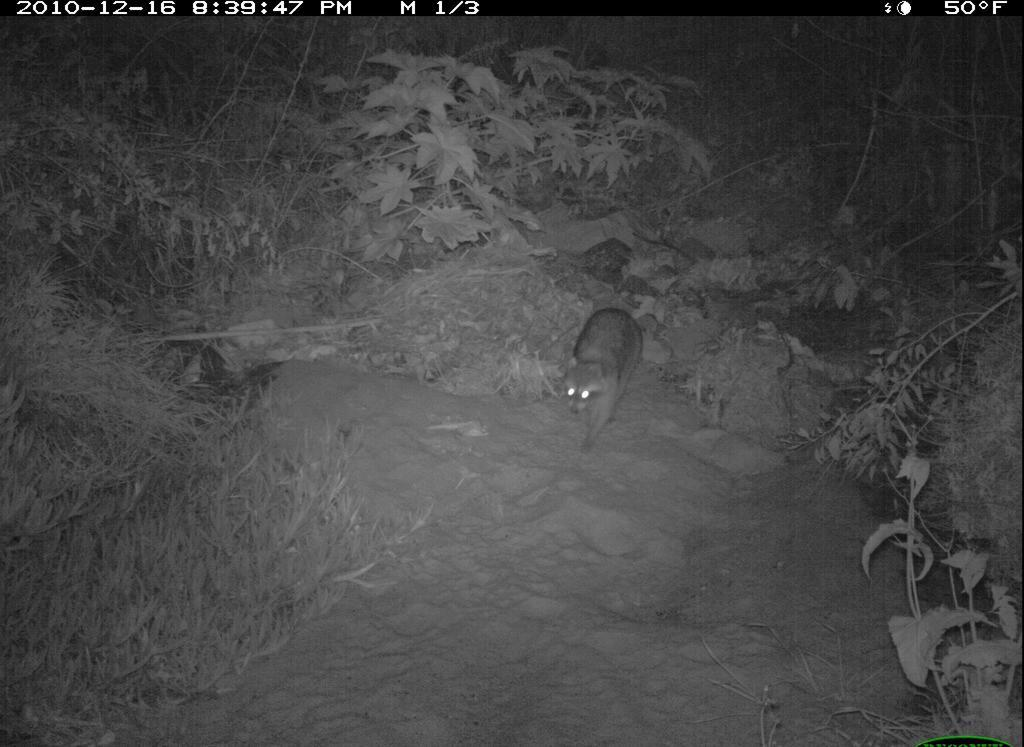raccoon: (559, 296, 661, 454)
